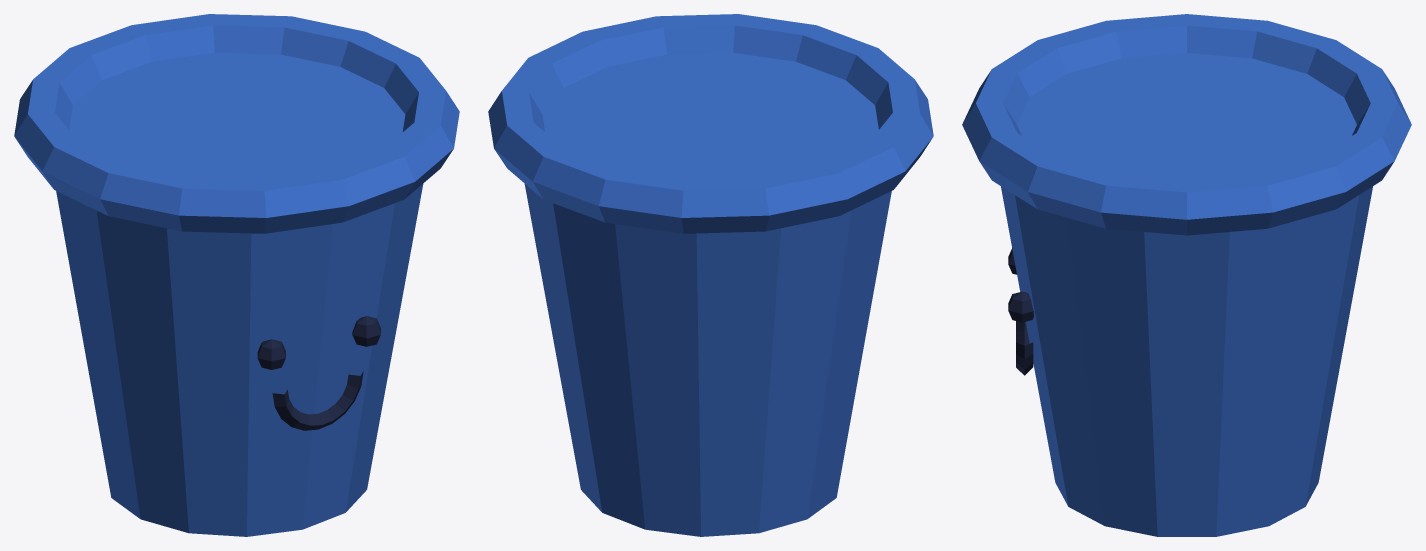
The model's file is ceramic_pot.glb.
3 renders of one model, left to right at view 1: azimuth 30°, elevation 25°; view 2: azimuth 150°, elevation 25°; view 3: azimuth 270°, elevation 25°, orthographic.
Visible parts, largest first — view 1: pot_ceramic_blue, rim_ceramic_blue, smile_ceramic_dark, eye_ceramic_dark; view 2: pot_ceramic_blue, rim_ceramic_blue; view 3: pot_ceramic_blue, rim_ceramic_blue, eye_ceramic_dark, smile_ceramic_dark.
Boxes of the visible parts, x1=… form: pot_ceramic_blue: x1=56, y1=52, x2=423, y2=536; rim_ceramic_blue: x1=14, y1=14, x2=459, y2=233; smile_ceramic_dark: x1=272, y1=371, x2=363, y2=430; eye_ceramic_dark: x1=257, y1=316, x2=380, y2=369; pot_ceramic_blue: x1=524, y1=52, x2=891, y2=536; rim_ceramic_blue: x1=488, y1=14, x2=933, y2=233; pot_ceramic_blue: x1=1001, y1=53, x2=1372, y2=536; rim_ceramic_blue: x1=962, y1=14, x2=1411, y2=235; eye_ceramic_dark: x1=1008, y1=248, x2=1033, y2=322; smile_ceramic_dark: x1=1016, y1=321, x2=1033, y2=375.
Size of the model in its own units: 0.41 by 0.3817 by 0.41.
